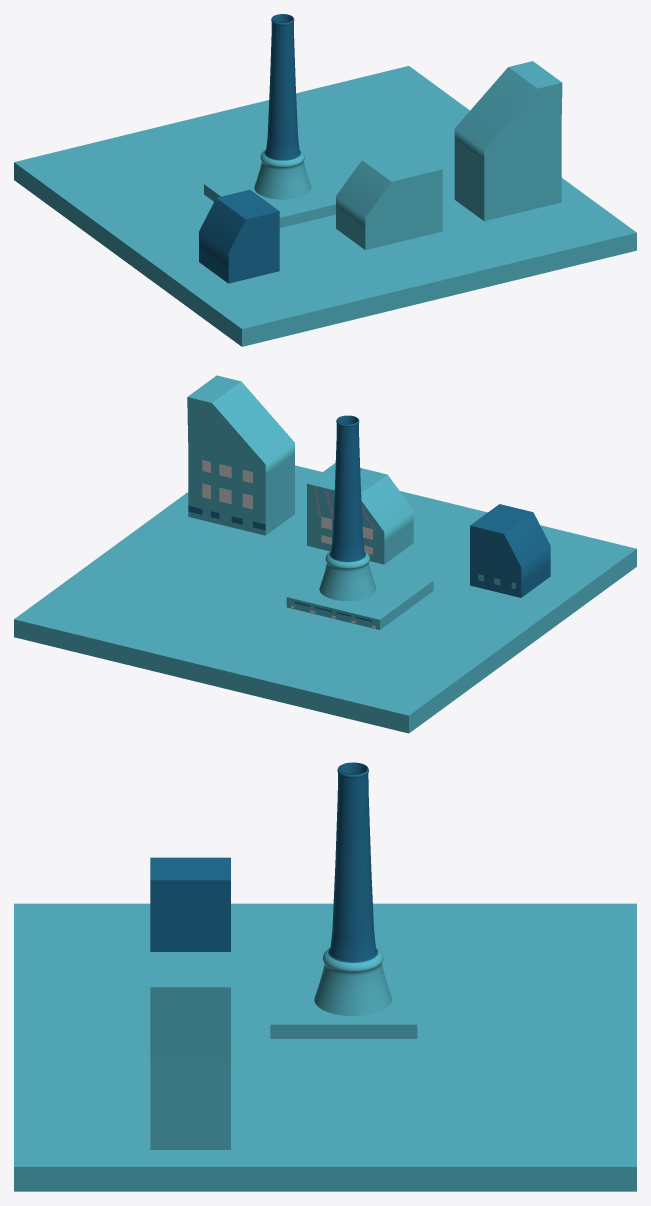
Rendered from factory_building-14.gltf.
3 views of the same model, one above another, from view 1: azimuth 30°, elevation 25°; view 2: azimuth 150°, elevation 25°; view 3: azimuth 270°, elevation 25° (orthographic). The views are drawn at different scales.
Parts seen in each view (by area): view 1: pCube20, pCube39, pCube37, pCube38, pCylinder10, pCube47; view 2: pCube20, pCube39, pCube38, pCube37, pCylinder10, pCube47; view 3: pCube20, pCube39, pCylinder10, pCube47, pCube38, pCube37.
Part boxes in pixels (box(x1,y1,x2,y2)): pCube20: box(14, 66, 636, 346); pCube39: box(454, 61, 562, 221); pCube37: box(336, 148, 442, 250); pCube38: box(199, 189, 279, 283); pCylinder10: box(254, 14, 311, 199); pCube47: box(204, 167, 338, 227); pCube20: box(14, 465, 636, 733); pCube39: box(187, 375, 294, 535); pCube38: box(470, 504, 550, 597); pCube37: box(307, 463, 413, 564); pCylinder10: box(319, 415, 376, 601); pCube47: box(286, 565, 433, 629); pCube20: box(14, 903, 636, 1191); pCube39: box(150, 971, 230, 1149); pCylinder10: box(314, 762, 391, 1015); pCube47: box(270, 962, 417, 1038); pCube38: box(150, 857, 230, 951); pCube37: box(150, 952, 230, 970).
Bounding box in the file's own units: 1.47 × 0.8194 × 1.47.
